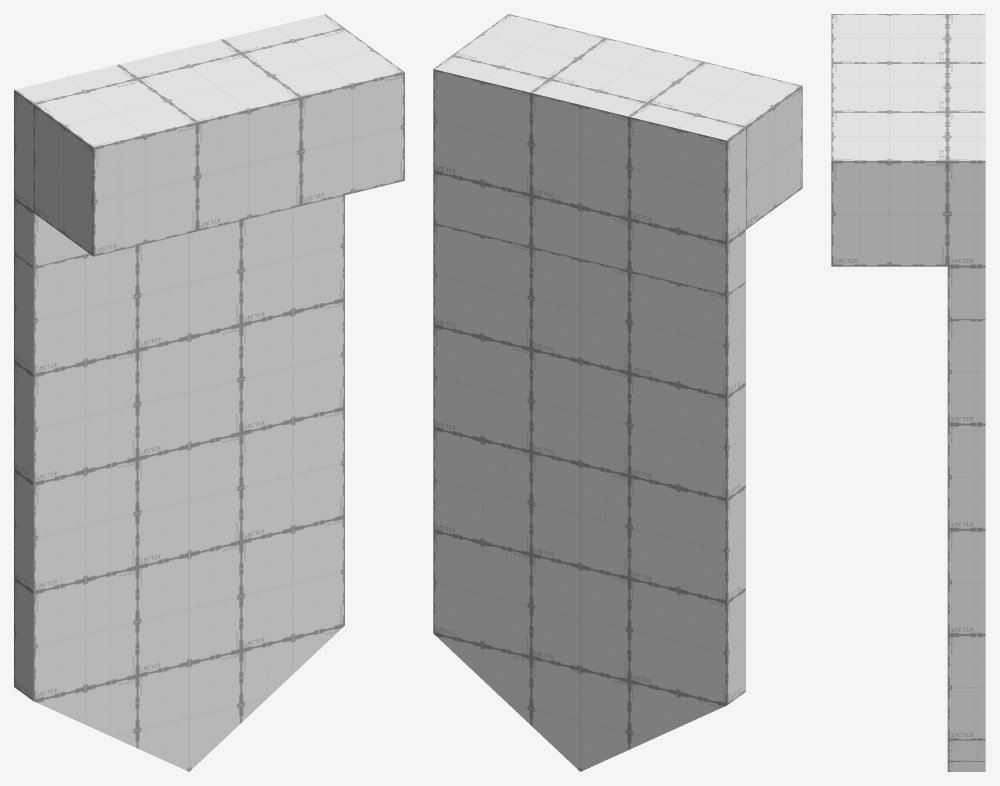
Rendered from Banner_L.obj.
The picture shows the model from 3 angles, left to right: view 1: azimuth 30°, elevation 25°; view 2: azimuth 150°, elevation 25°; view 3: azimuth 270°, elevation 25°; orthographic projection. The views are drawn at different scales.
Parts seen in each view (by area): view 1: Banner_L; view 2: Banner_L; view 3: Banner_L.
Boxes of the visible parts, left/top/right/bottom form: Banner_L: left=14, top=14, right=404, bottom=771; Banner_L: left=433, top=14, right=802, bottom=771; Banner_L: left=831, top=14, right=985, bottom=771.
Size of the model in its own units: 3 by 6.5 by 1.33.
1 material, 1 textured.
